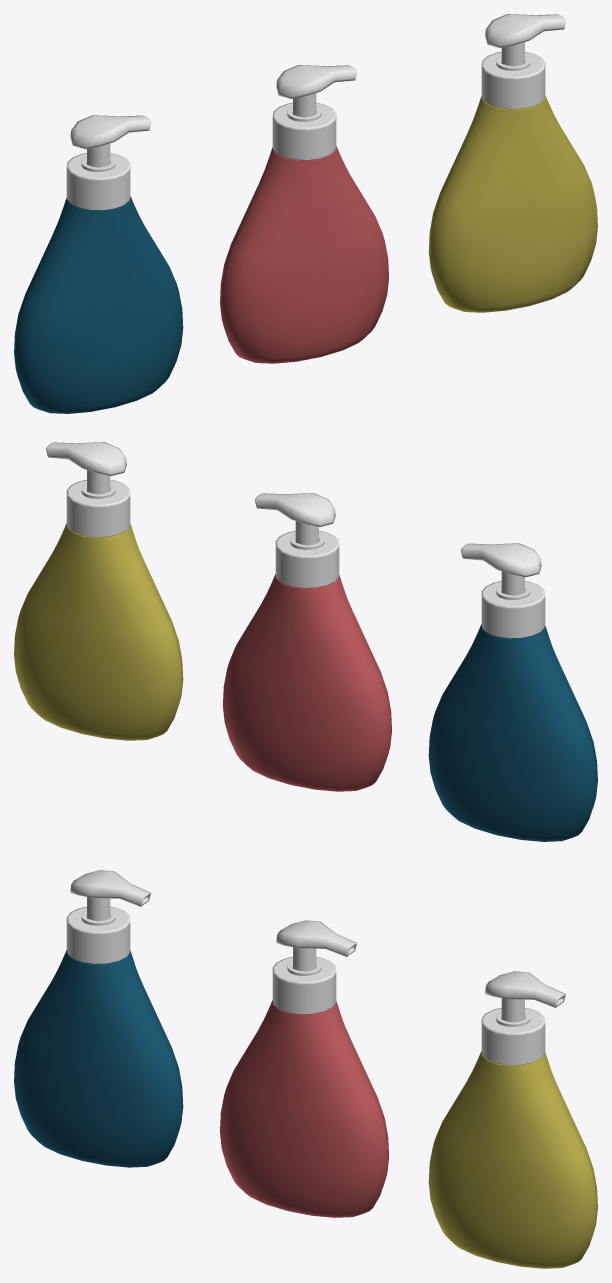
Rendered from handlotion.fbx.
The picture shows the model from 3 angles, top to bottom: view 1: azimuth 30°, elevation 25°; view 2: azimuth 150°, elevation 25°; view 3: azimuth 330°, elevation 25°; orthographic projection.
Parts seen in each view (by area): view 1: handlotionblue, handlotionred, handlotiongreen; view 2: handlotionblue, handlotionred, handlotiongreen; view 3: handlotionblue, handlotionred, handlotiongreen.
Part boxes in pixels (left/top/right/bottom): handlotionblue: left=14, top=115, right=183, bottom=413; handlotionred: left=220, top=65, right=388, bottom=363; handlotiongreen: left=428, top=14, right=597, bottom=312; handlotionblue: left=428, top=543, right=597, bottom=841; handlotionred: left=223, top=493, right=391, bottom=791; handlotiongreen: left=14, top=442, right=183, bottom=740; handlotionblue: left=14, top=870, right=183, bottom=1167; handlotionred: left=220, top=920, right=388, bottom=1217; handlotiongreen: left=428, top=971, right=597, bottom=1268.
Size of the model in its own units: 35.63 by 16.04 by 4.59.
